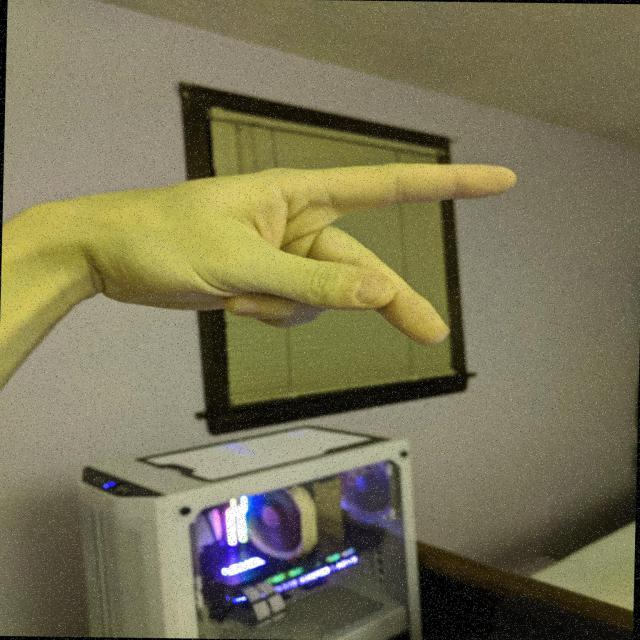P: (75, 153, 521, 355)
